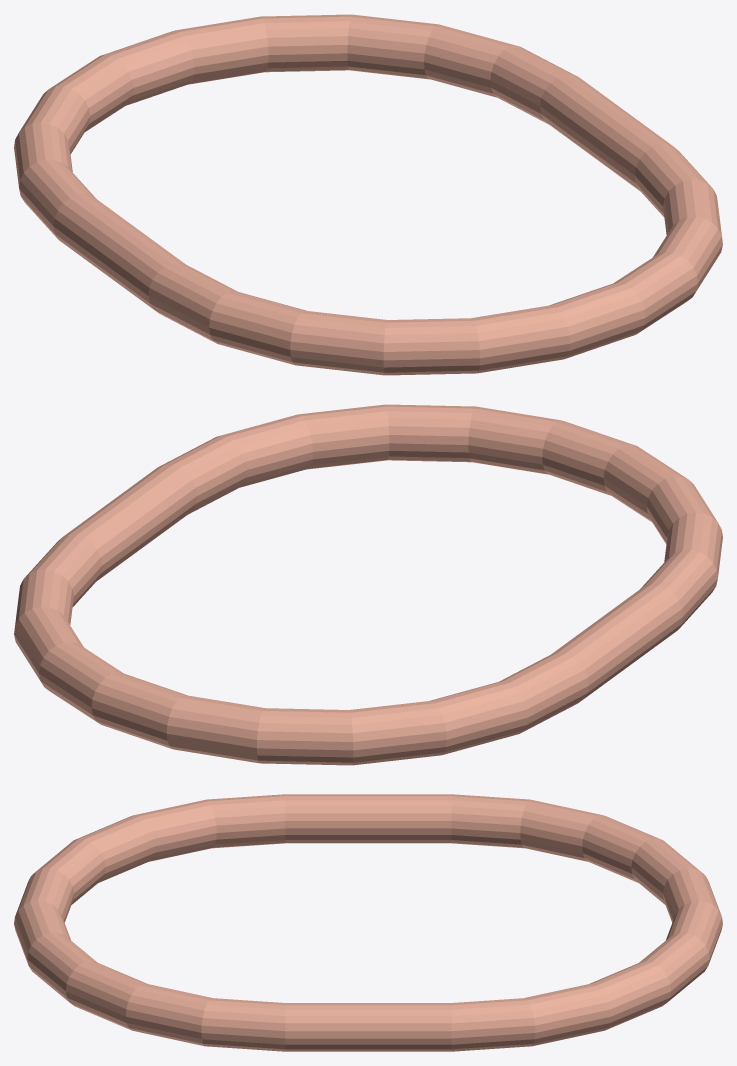
Rendered from dsadasdsa.fbx.
The picture shows the model from 3 angles, top to bottom: view 1: azimuth 30°, elevation 25°; view 2: azimuth 150°, elevation 25°; view 3: azimuth 270°, elevation 25°; orthographic projection. The views are drawn at different scales.
Visible parts, largest first — view 1: pTorus1; view 2: pTorus1; view 3: pTorus1.
Boxes of the visible parts, <box> form: pTorus1: <box>14,14,722,375</box>; pTorus1: <box>14,404,722,765</box>; pTorus1: <box>14,794,722,1051</box>.
Bounding box in the file's own units: 4.4 × 0.3998 × 5.75.
